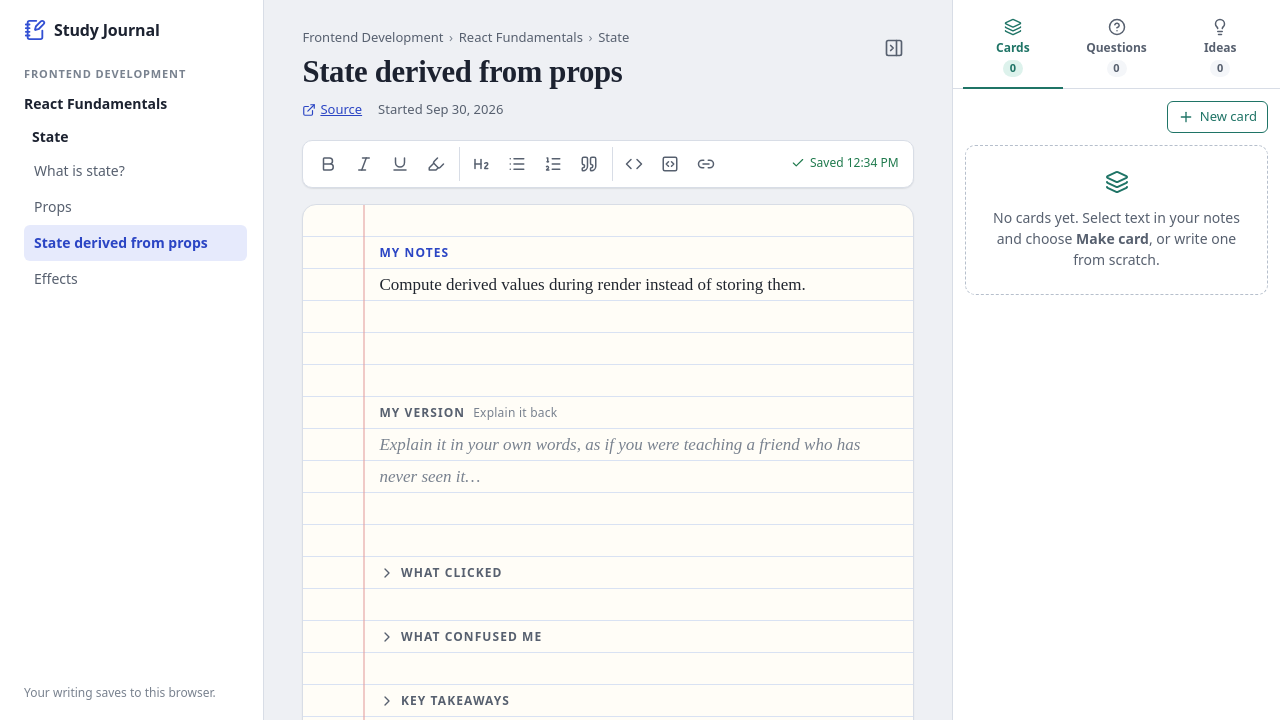
Scenario: JournalPage › never creates or removes cards, questions, or ideas as a side effect of writing
Expected: the heading "State derived from props" is shown, 302,54 -> 629,90
Click the button named "Highlight" at x=436, y=164, box 419,147 -> 453,181
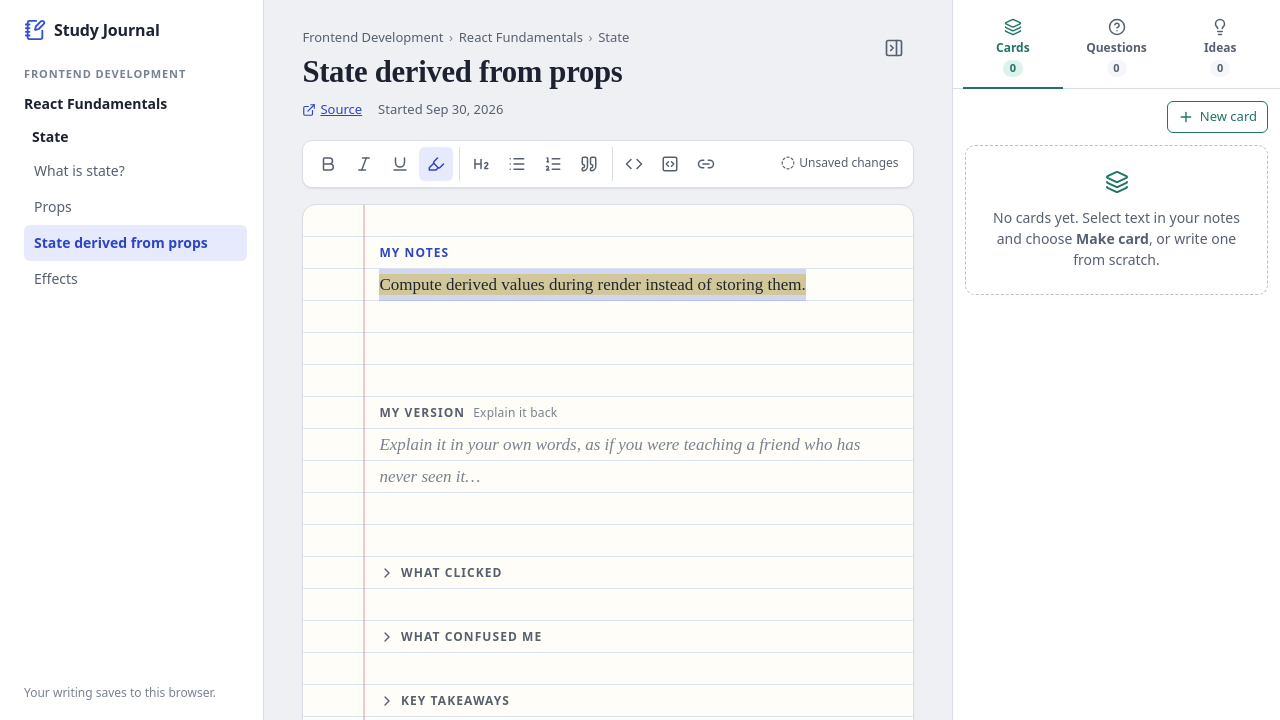
Click the button named "Underline" at x=400, y=164, box 383,147 -> 417,181
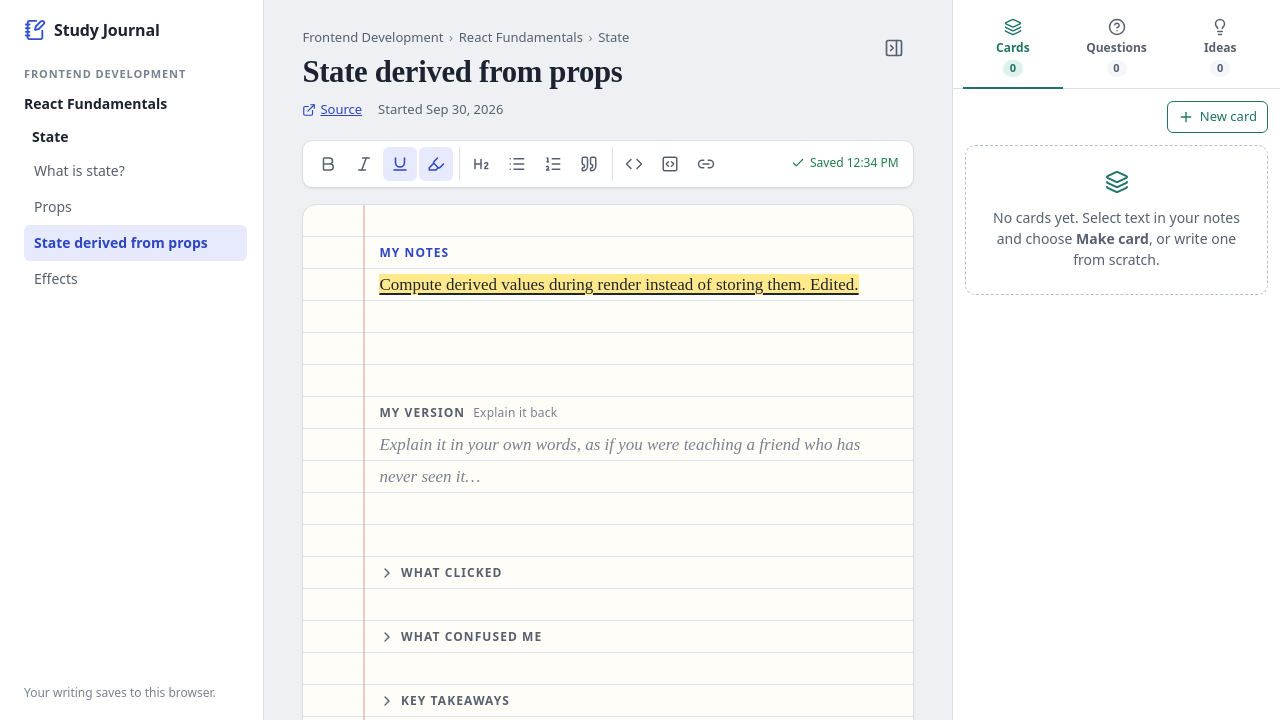
Click the button "New card" at x=1217, y=117, box 1167,101 -> 1268,133
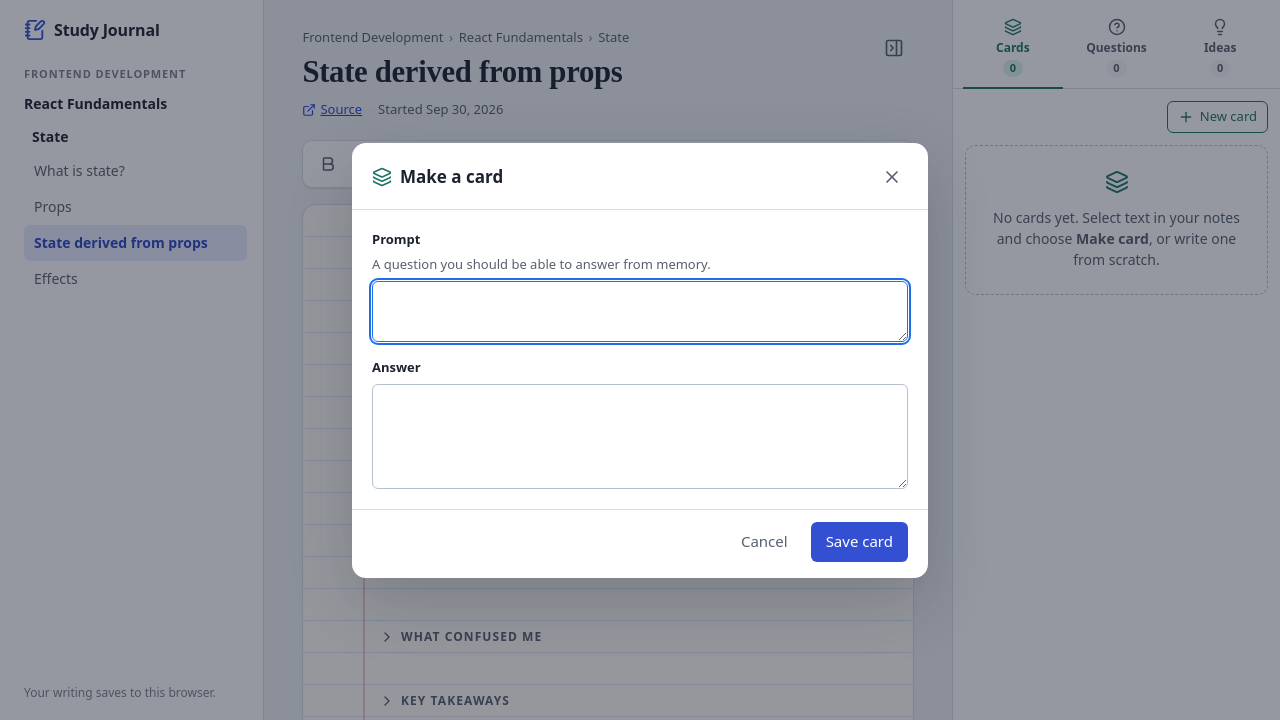
Type "Where do derived values belong?" into the text box labelled "Prompt" at x=640, y=311, box 372,280 -> 908,342
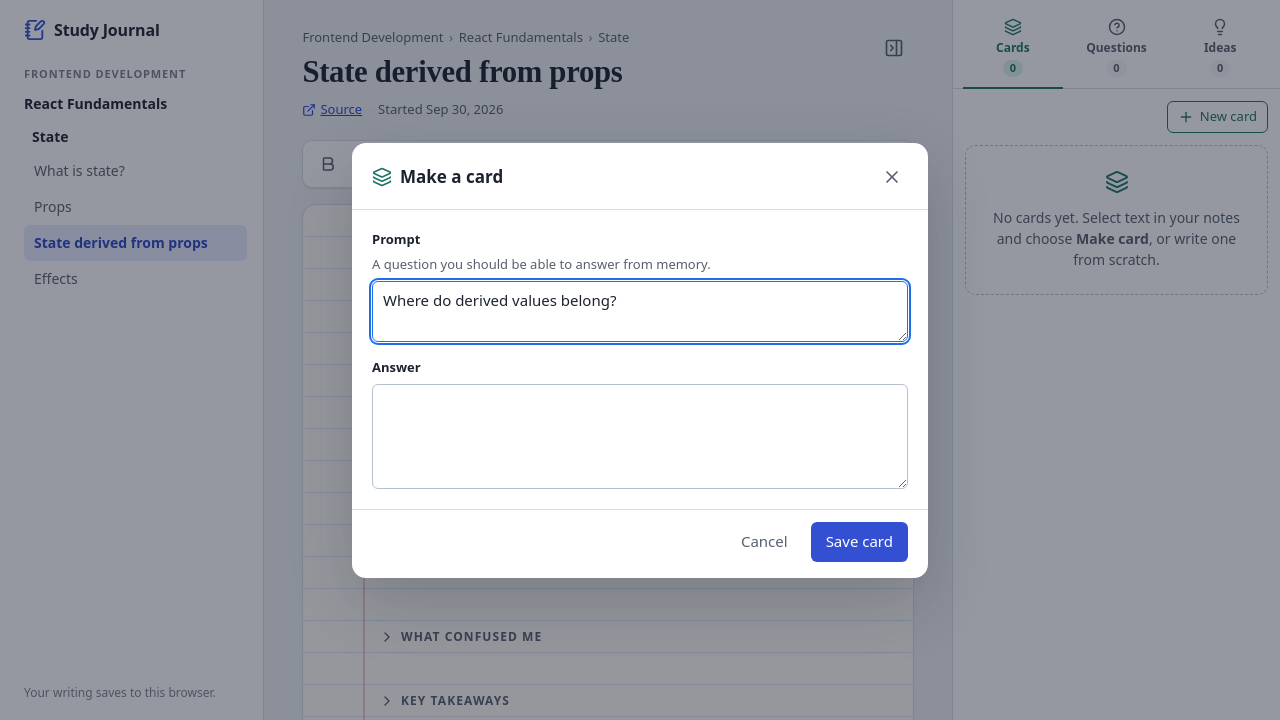
Type "In render, not in state." into the text box labelled "Answer" at x=640, y=436, box 372,384 -> 908,488
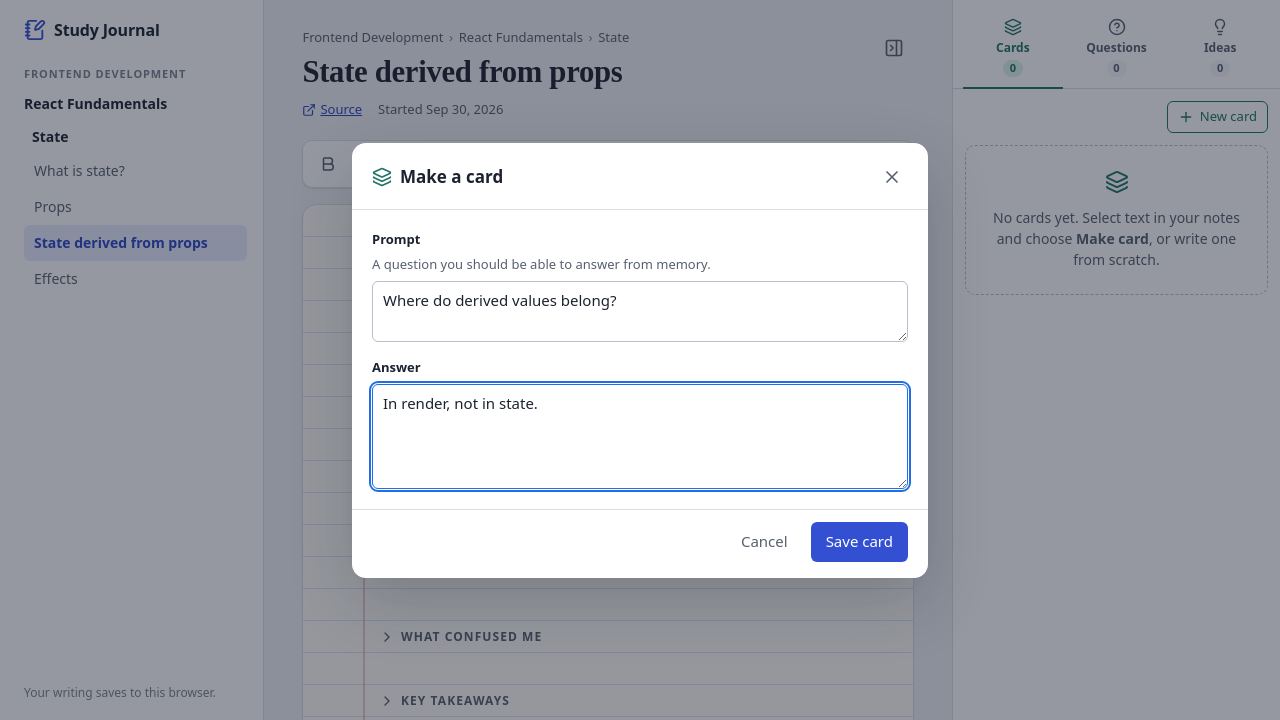
Click the button "Save card" at x=859, y=542, box 811,522 -> 908,562
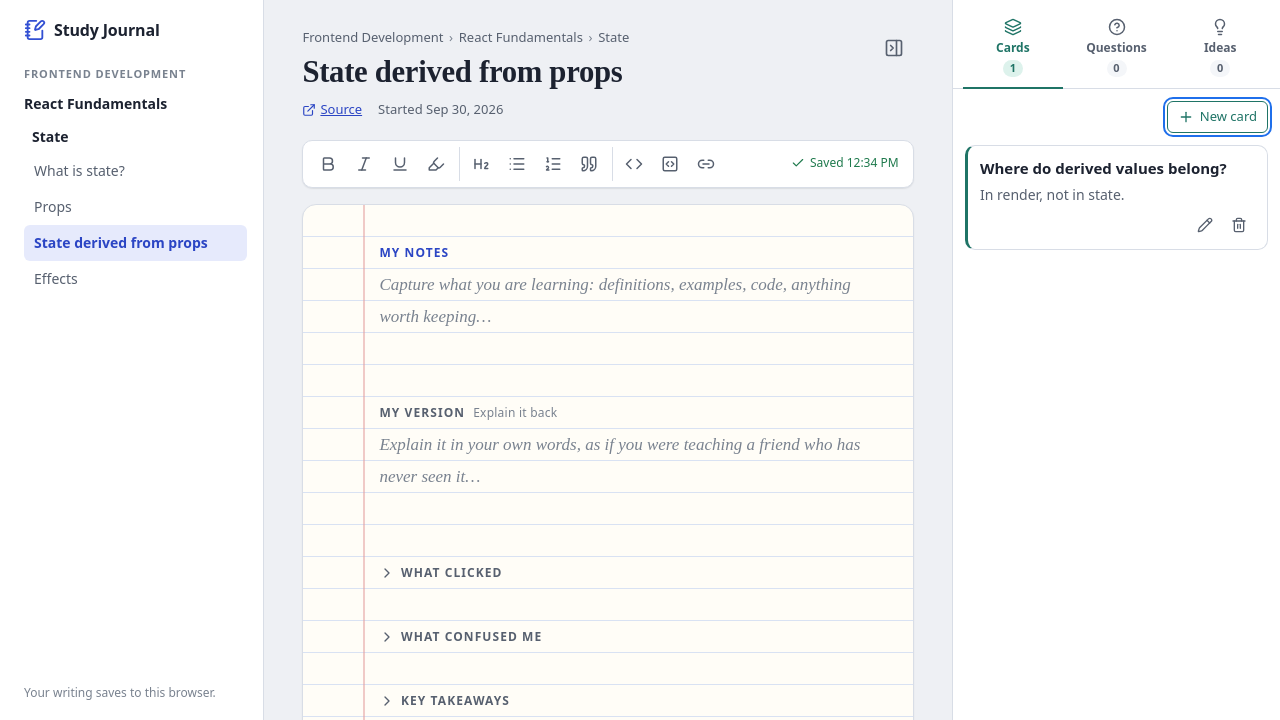
Expected: the element named "card: Where do derived values belong?" is shown, 965,145 -> 1268,250
